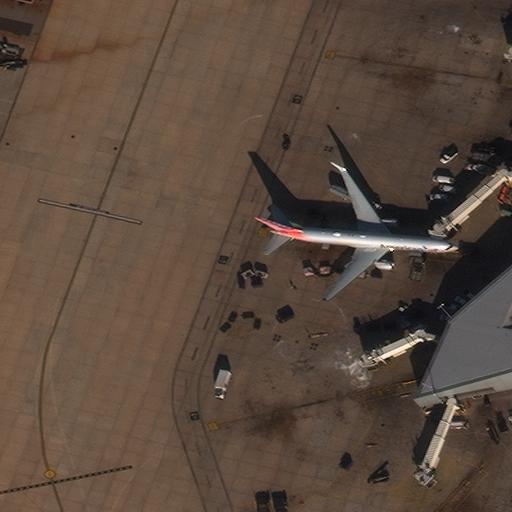Large Civil Transport: (255, 171, 459, 300)
